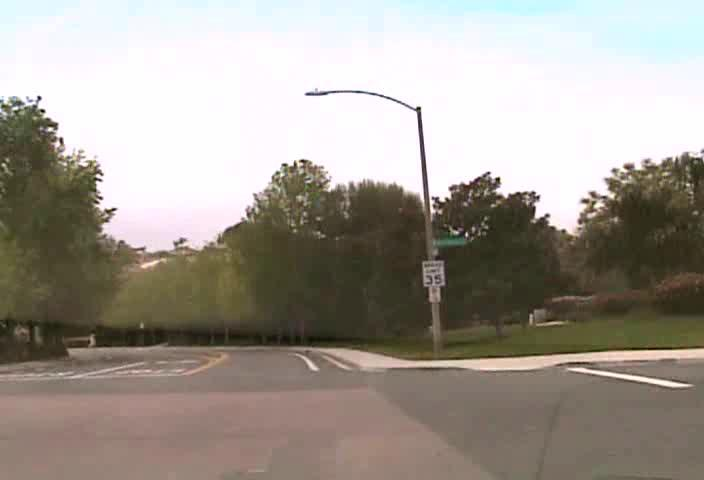speedLimit35: (421, 259, 446, 287)
